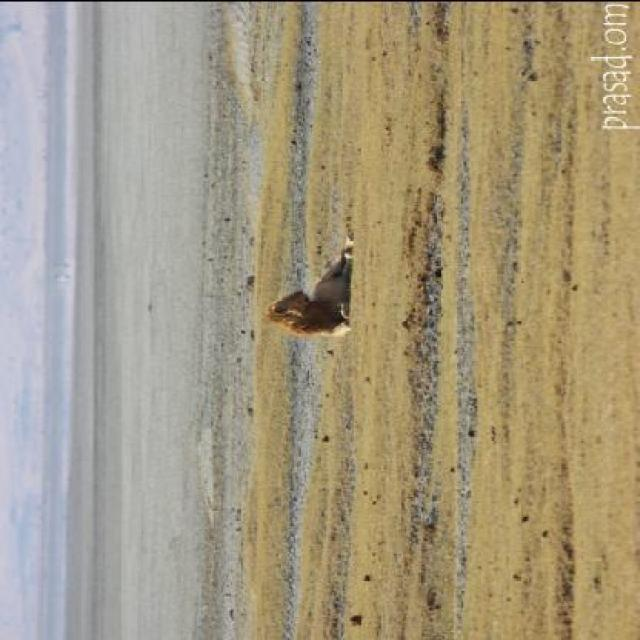Lion: (255, 225, 372, 357)
